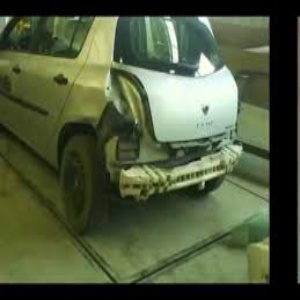bumper: (108, 143, 246, 201)
